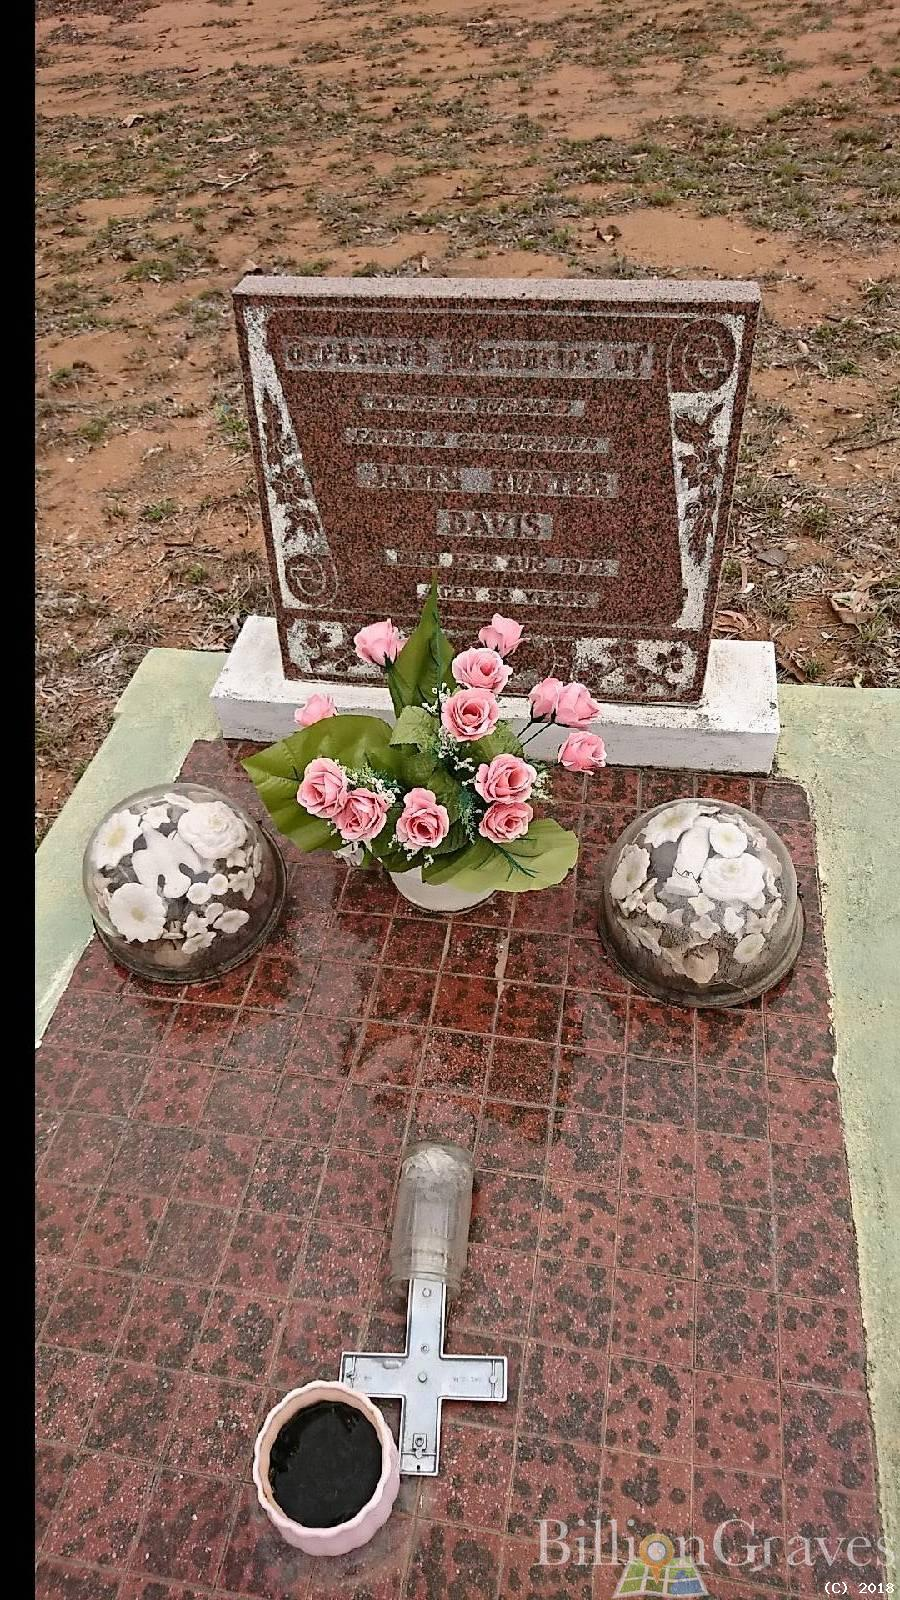upright: (204, 268, 792, 780)
